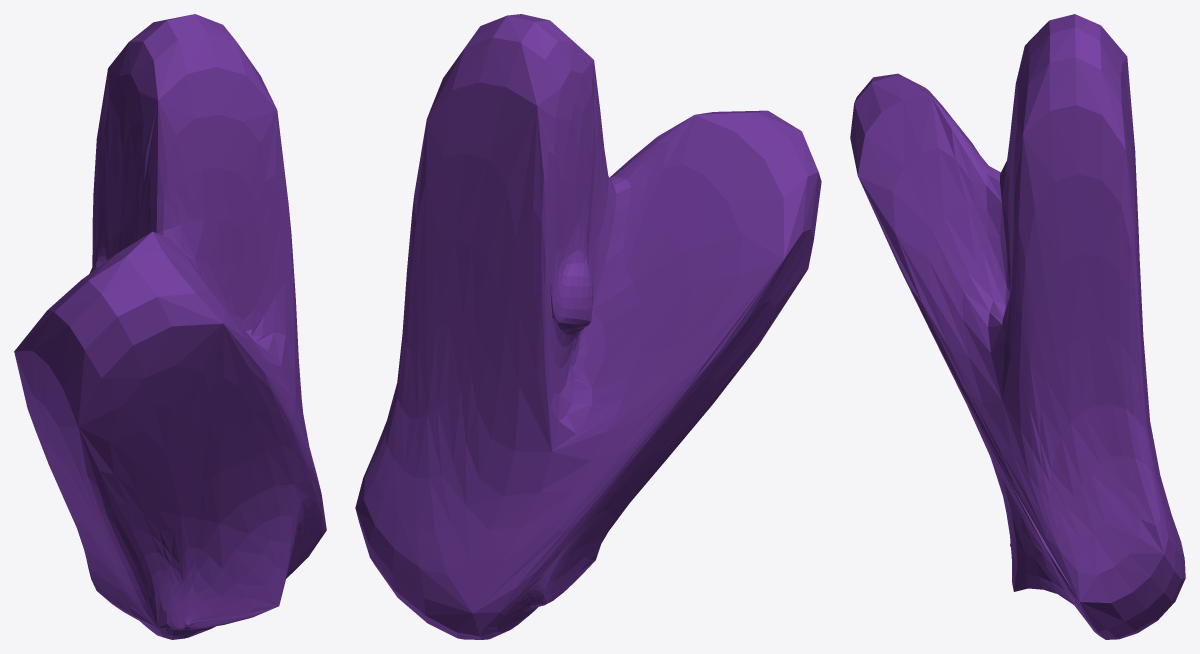
The picture shows the model from 3 angles, left to right: view 1: azimuth 30°, elevation 25°; view 2: azimuth 150°, elevation 25°; view 3: azimuth 270°, elevation 25°; orthographic projection. The views are drawn at different scales.
Parts seen in each view (by area): view 1: 252_Cube.1033; view 2: 252_Cube.1033; view 3: 252_Cube.1033.
Boxes of the visible parts, box(x1,y1,x2,y2) form: 252_Cube.1033: box(14, 14, 326, 639); 252_Cube.1033: box(355, 14, 821, 639); 252_Cube.1033: box(850, 14, 1185, 639).
Size of the model in its own units: 7.54 by 12.49 by 6.34.
